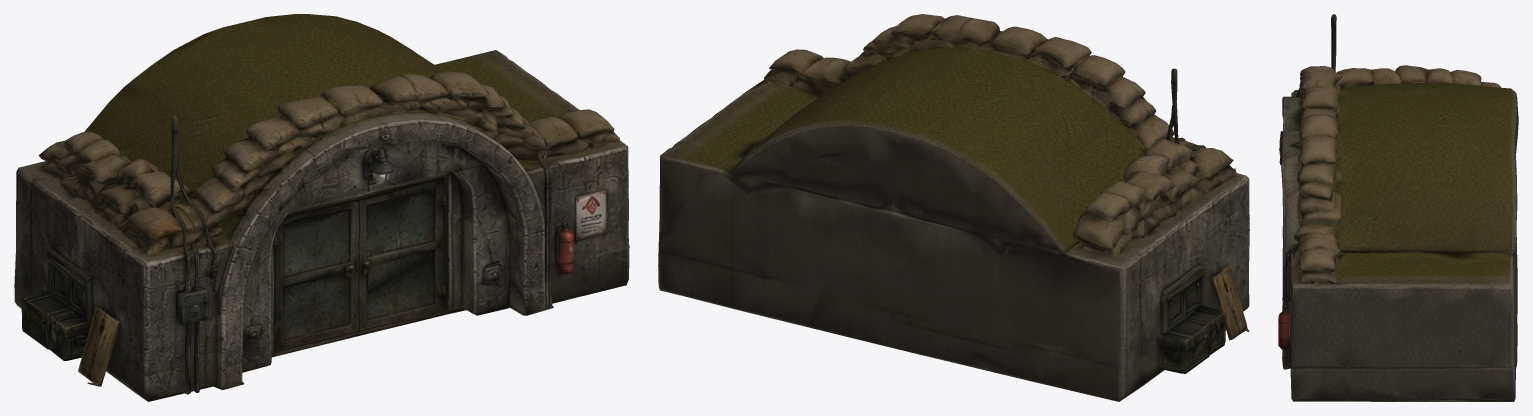
The model's file is bunker_hangar.glb.
3 views of the same model, side by side, from view 1: azimuth 30°, elevation 25°; view 2: azimuth 150°, elevation 25°; view 3: azimuth 270°, elevation 25° (orthographic). The views are drawn at different scales.
Visible parts, largest first — view 1: bunker_hangar; view 2: bunker_hangar; view 3: bunker_hangar.
Part boxes in pixels (<box>): bunker_hangar: <box>14,14,629,401</box>; bunker_hangar: <box>658,14,1249,401</box>; bunker_hangar: <box>1278,14,1518,401</box>.
Bounding box in the file's own units: 1.9 × 0.9036 × 0.922.
Materials: 1 (1 with a texture image).
